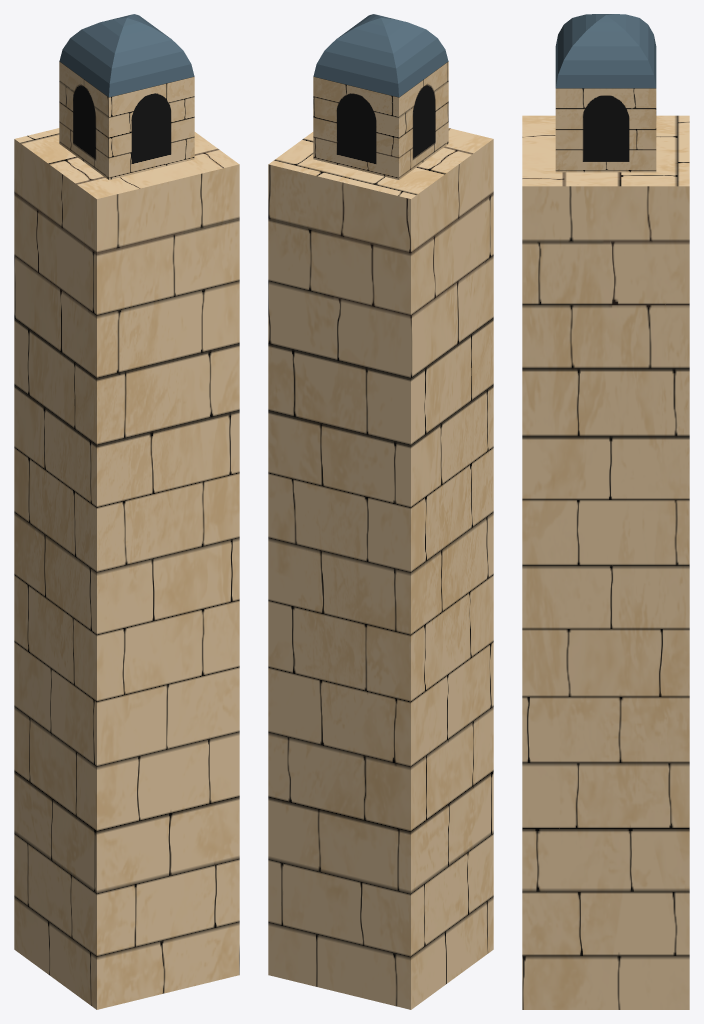
The model's file is Campanario.fbx.
The picture shows the model from 3 angles, left to right: view 1: azimuth 30°, elevation 25°; view 2: azimuth 150°, elevation 25°; view 3: azimuth 270°, elevation 25°; orthographic projection.
Parts seen in each view (by area): view 1: Box001; view 2: Box001; view 3: Box001.
Boxes of the visible parts, box(x1,y1,x2,y2) form: Box001: box(14, 14, 239, 1009); Box001: box(268, 14, 493, 1009); Box001: box(522, 14, 689, 1009).
Size of the model in its own units: 0.7 by 4.43 by 0.7.
Materials: 1 (1 with a texture image).
